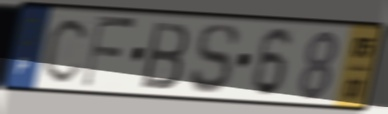6: (251, 25, 295, 100)
8: (298, 28, 341, 102)
B: (139, 19, 192, 92)
C: (41, 15, 93, 86)
F: (79, 12, 139, 91)
S: (188, 22, 241, 96)
